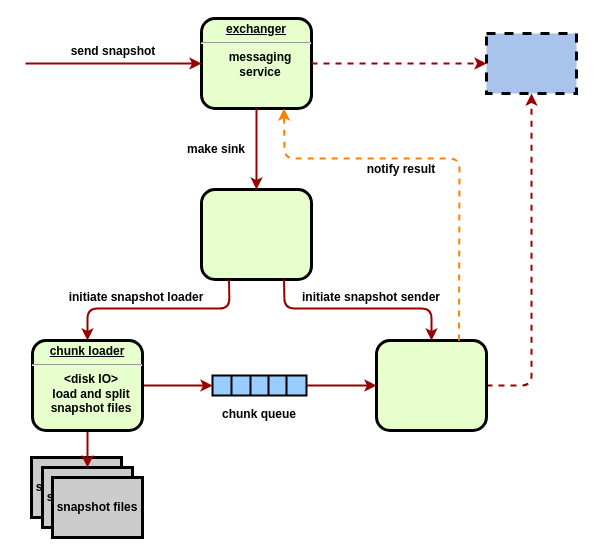
This 595x556 diagram has some shape labels left out. Here are the shapes that lost their labels. From the top down, the box of each, then its label:
(484, 32, 578, 94): peer node
(200, 188, 312, 280): snapshot express transport snapshot
(374, 338, 488, 432): express worker <network IO> send snapshot chunks
